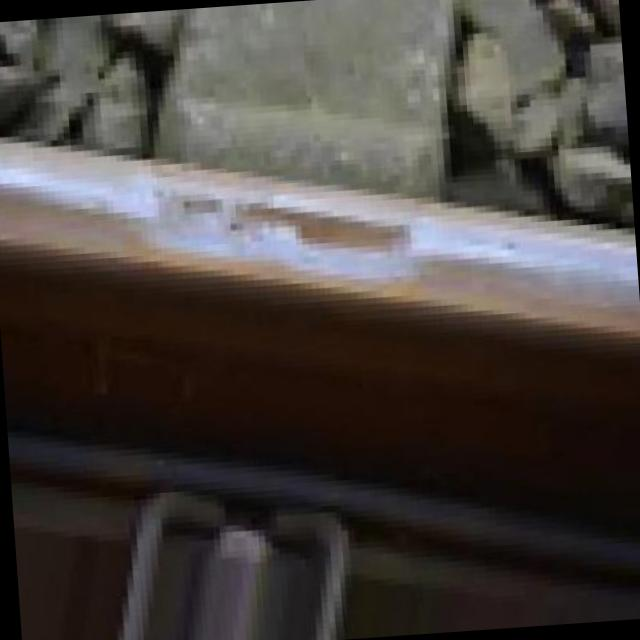defective: (112, 103, 540, 456)
